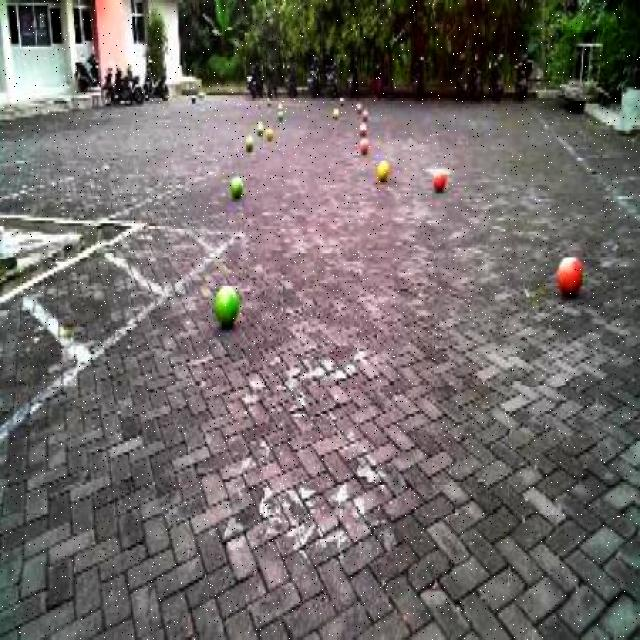buoy: (553, 243, 585, 305), (212, 283, 240, 330), (431, 165, 447, 198), (229, 168, 245, 200), (375, 158, 389, 182)
